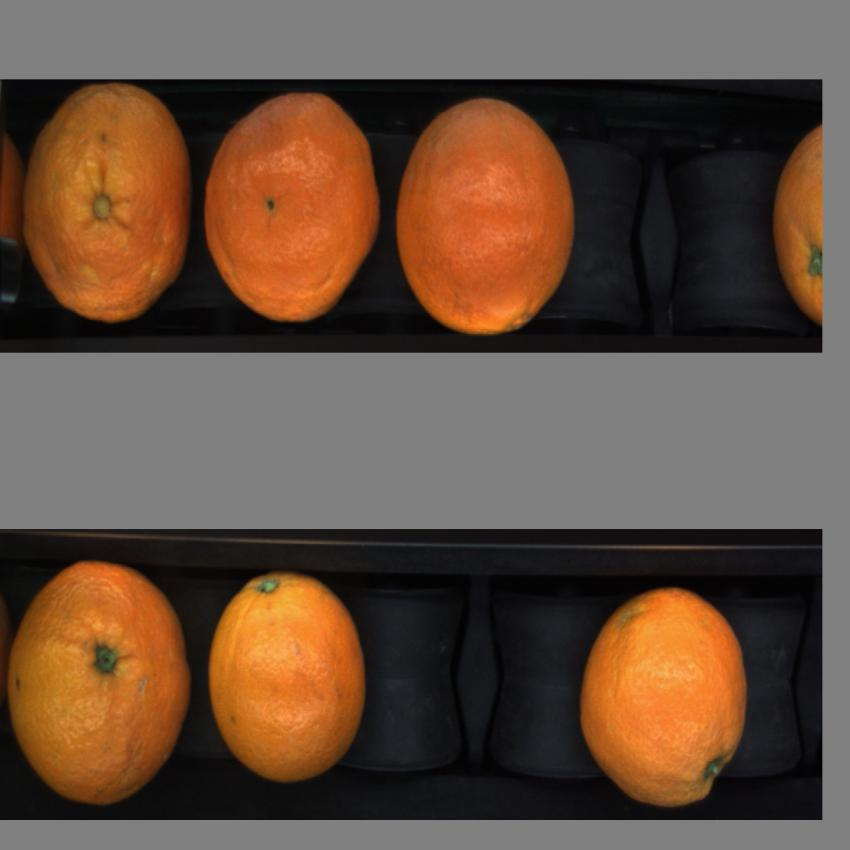Buen estado: (9, 553, 194, 814), (25, 77, 192, 320), (576, 588, 752, 810), (208, 560, 370, 794), (770, 117, 823, 325)
Mal estado: (396, 84, 584, 335), (203, 87, 383, 327)
